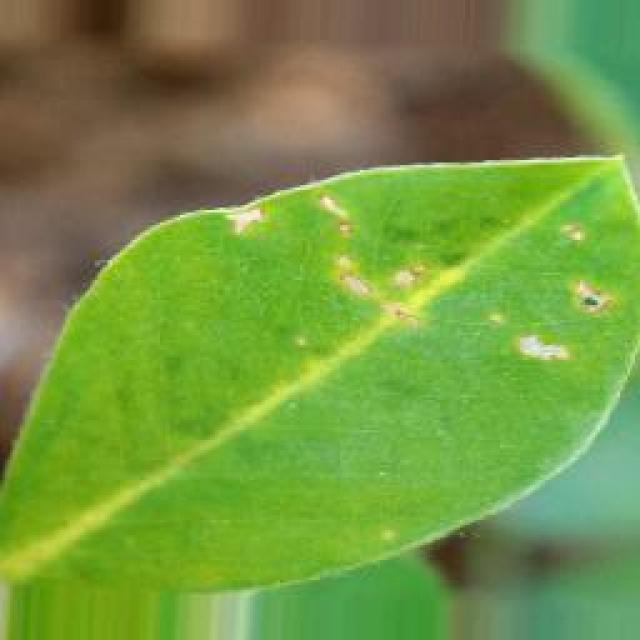Yellow_and_black_sigatoka: (7, 147, 640, 602)
